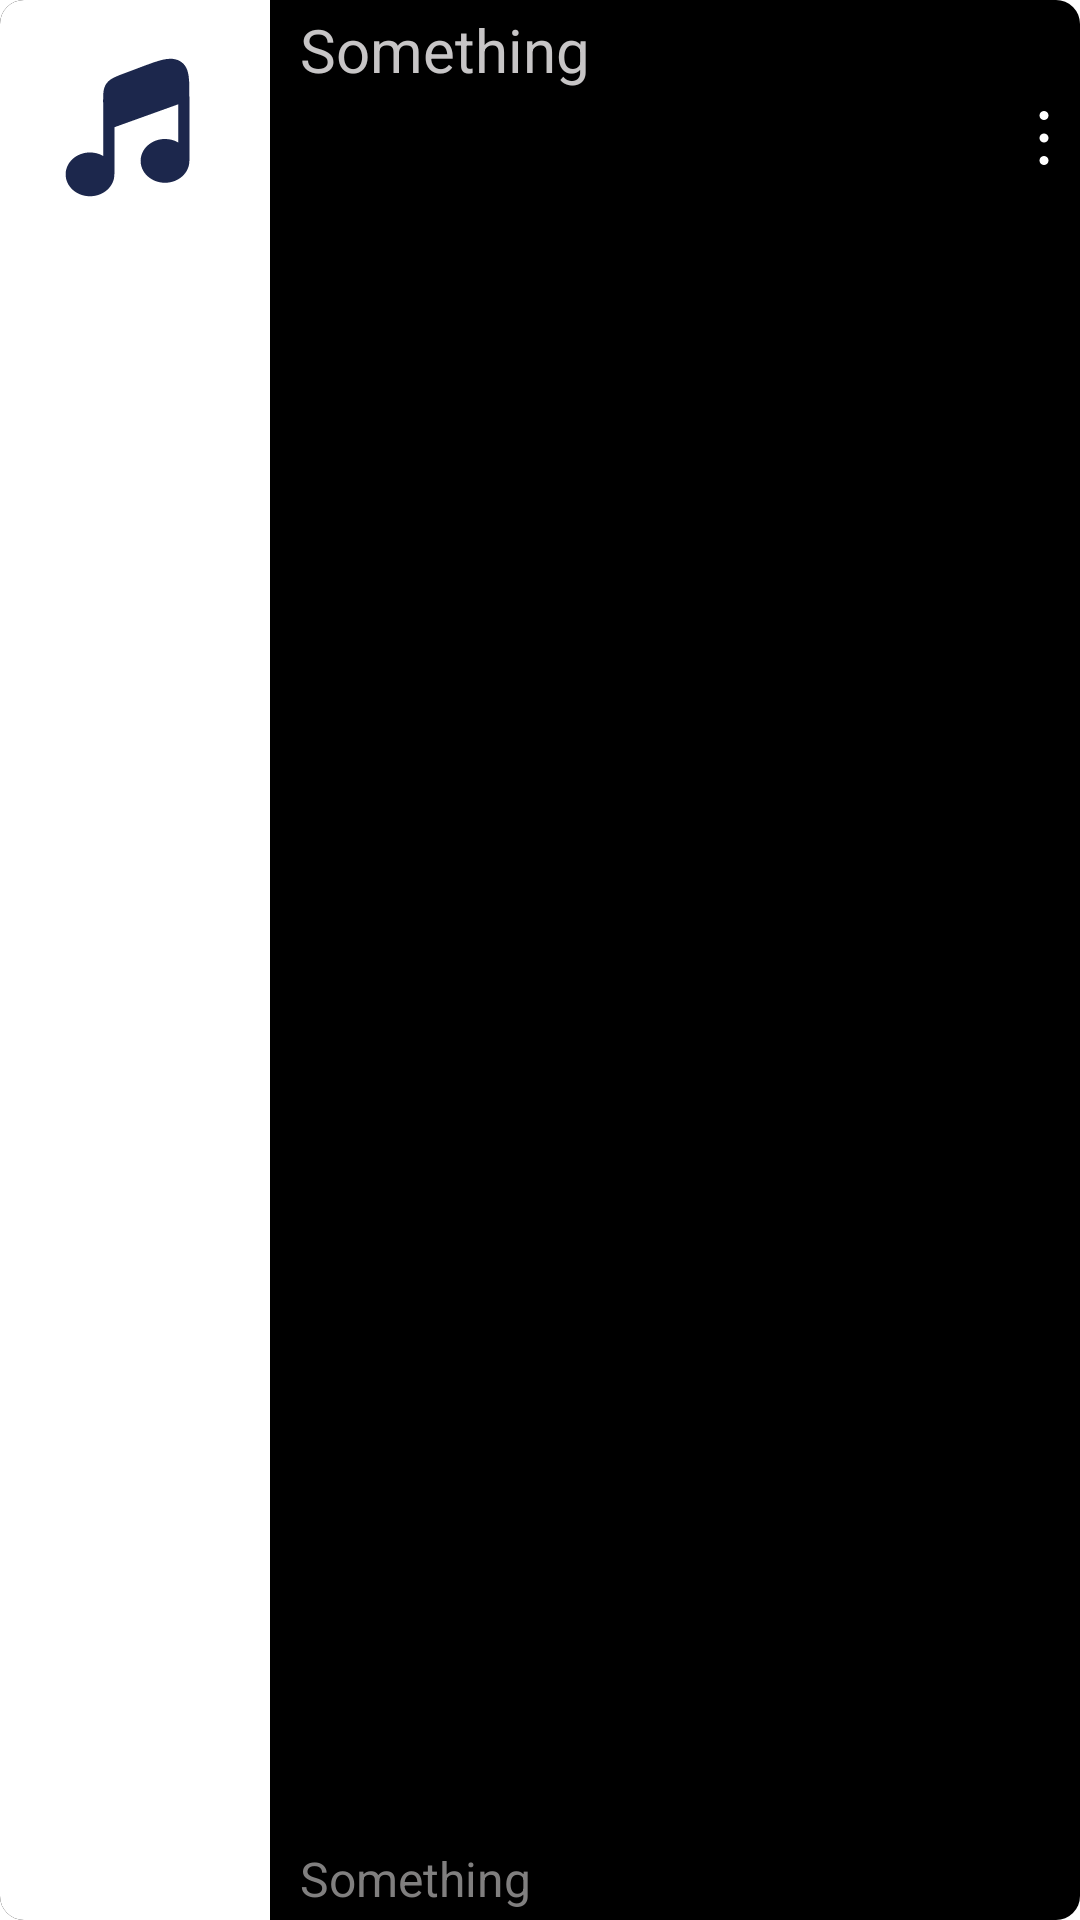

Where icons sit on this 1080 × 1920 app screen, as (x1, y1, x2, y2):
music note: (65, 58, 190, 197)
